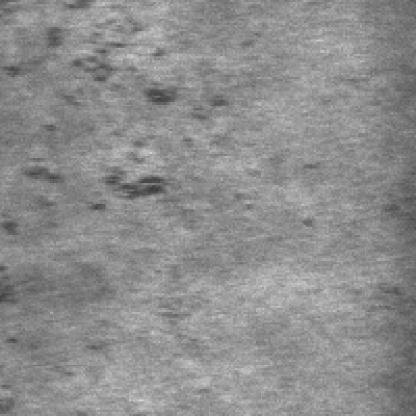rolled-in_scale: (6, 4, 166, 133), (2, 148, 166, 231)
